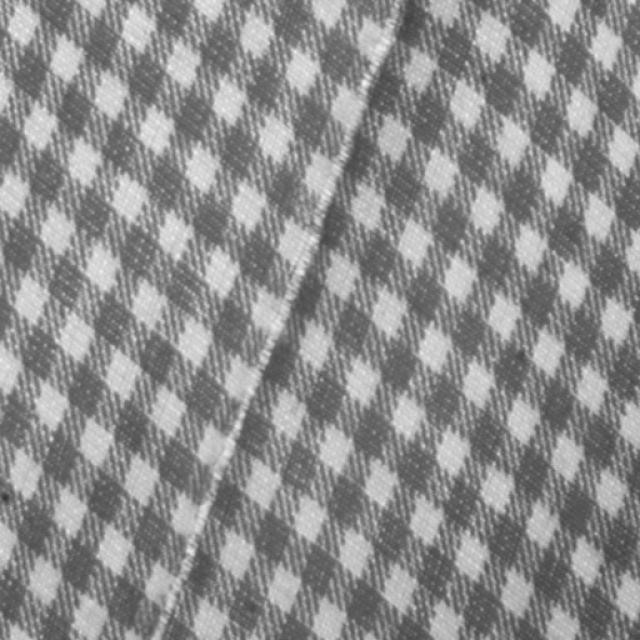Thread-Defect: (141, 5, 409, 639)
